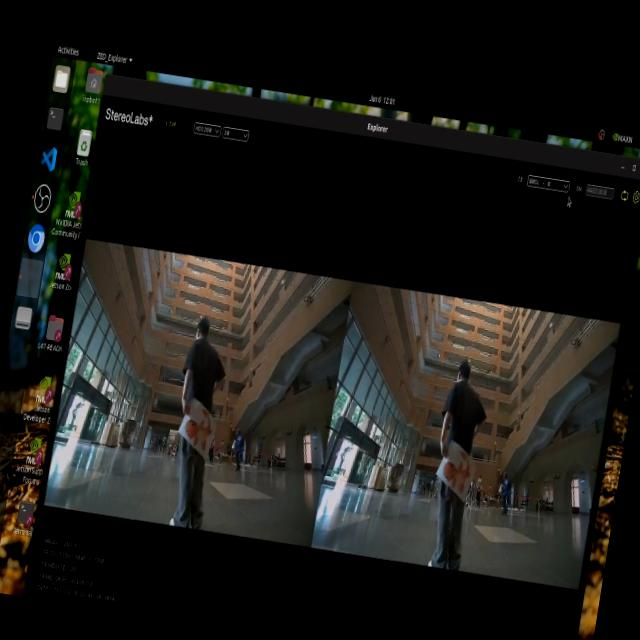red: (441, 442, 478, 496), (183, 416, 217, 462)
